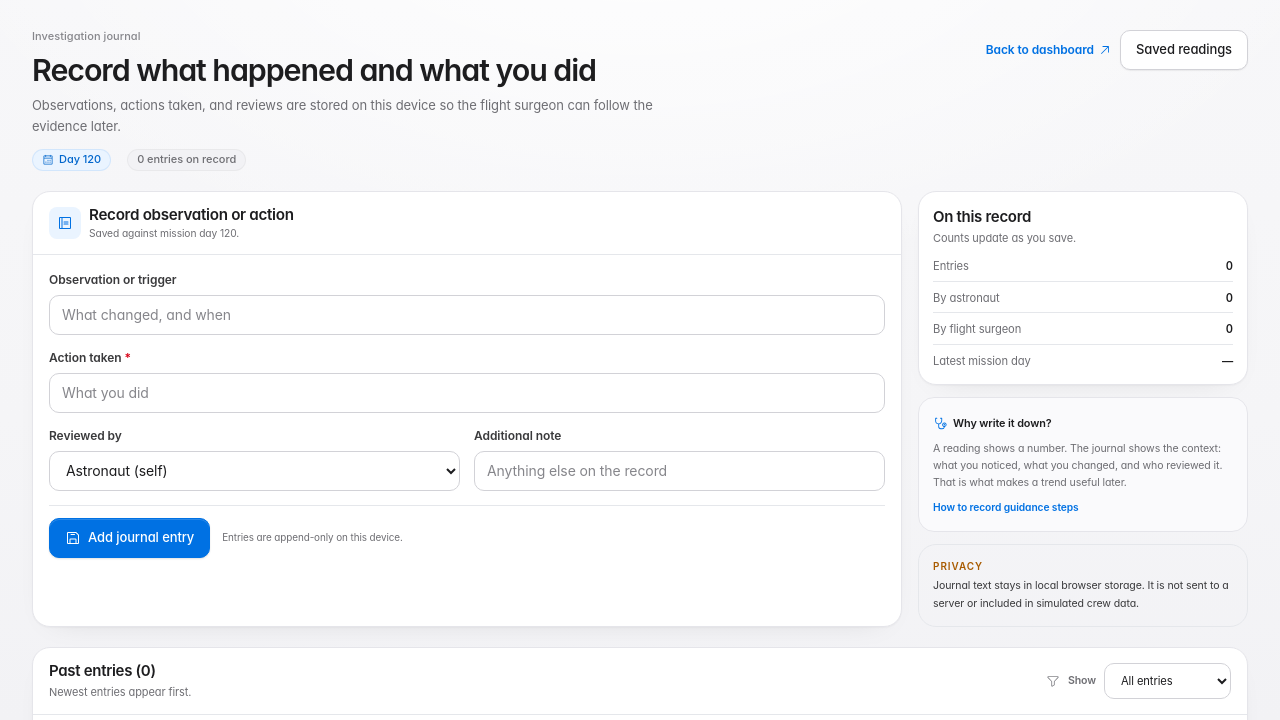
U15: Journal and About Screens › adds and lists journal entries newest first
Type "Repeated heart rate reading" into the field labelled "Action taken *". click: (467, 393)
box: [49, 373, 885, 413]
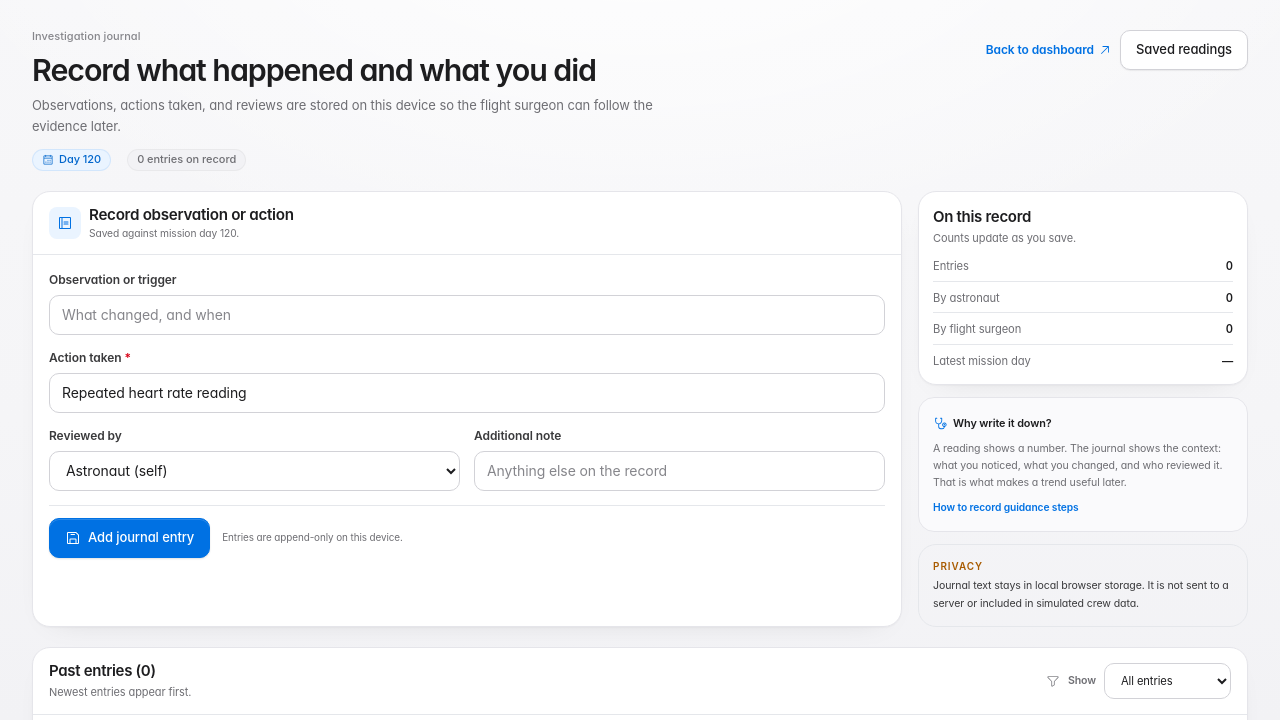
Click the button "Add journal entry". click: (130, 538)
box: [49, 518, 210, 558]
(page scrolled)
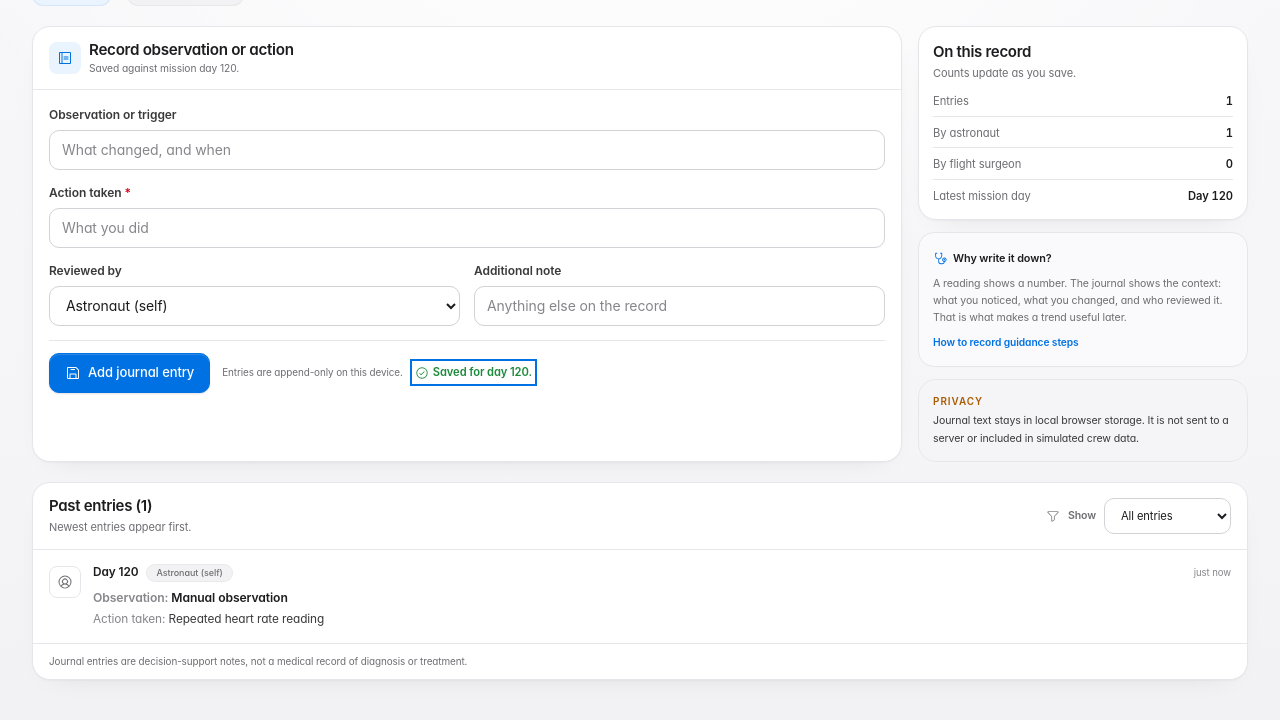
Check: the text "Repeated heart rate reading" is shown, box [169, 612, 324, 626]
